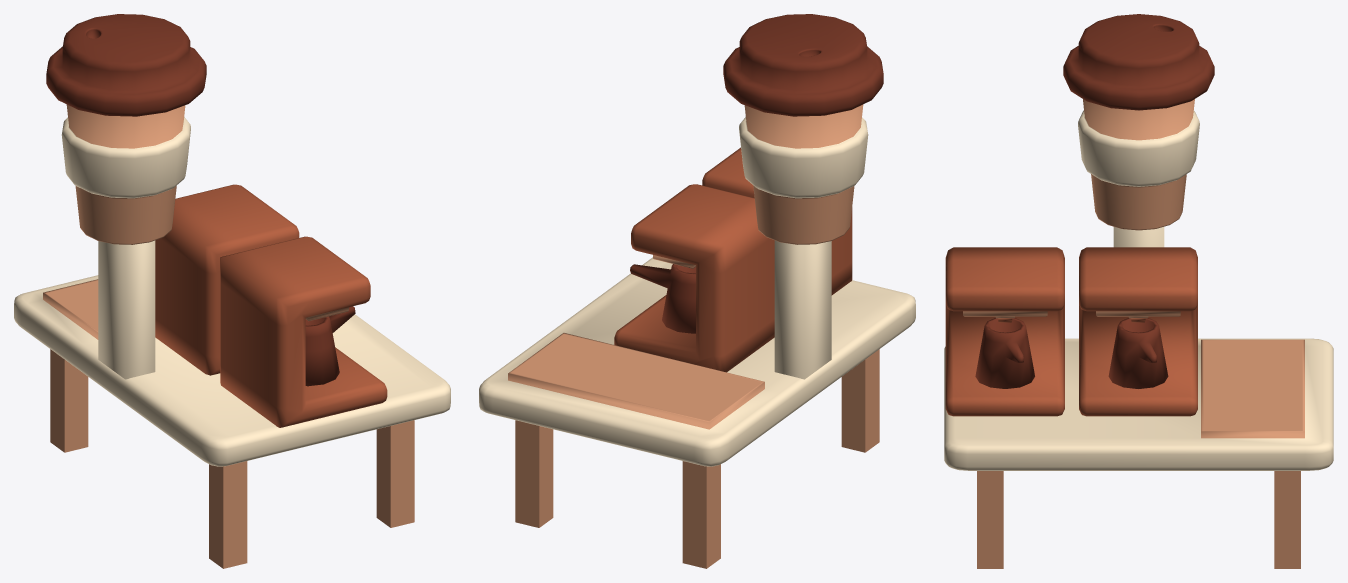
Rendered from Coffee-Machine.fbx.
The picture shows the model from 3 angles, left to right: view 1: azimuth 30°, elevation 25°; view 2: azimuth 150°, elevation 25°; view 3: azimuth 270°, elevation 25°; orthographic projection. The views are drawn at different scales.
Parts seen in each view (by area): view 1: Coffee-Machine; view 2: Coffee-Machine; view 3: Coffee-Machine.
Boxes of the visible parts, x1,y1,x2,y2 form: Coffee-Machine: (14,14,450,568); Coffee-Machine: (479,14,915,568); Coffee-Machine: (944,14,1333,568).
Size of the model in its own units: 331 by 498 by 399.
